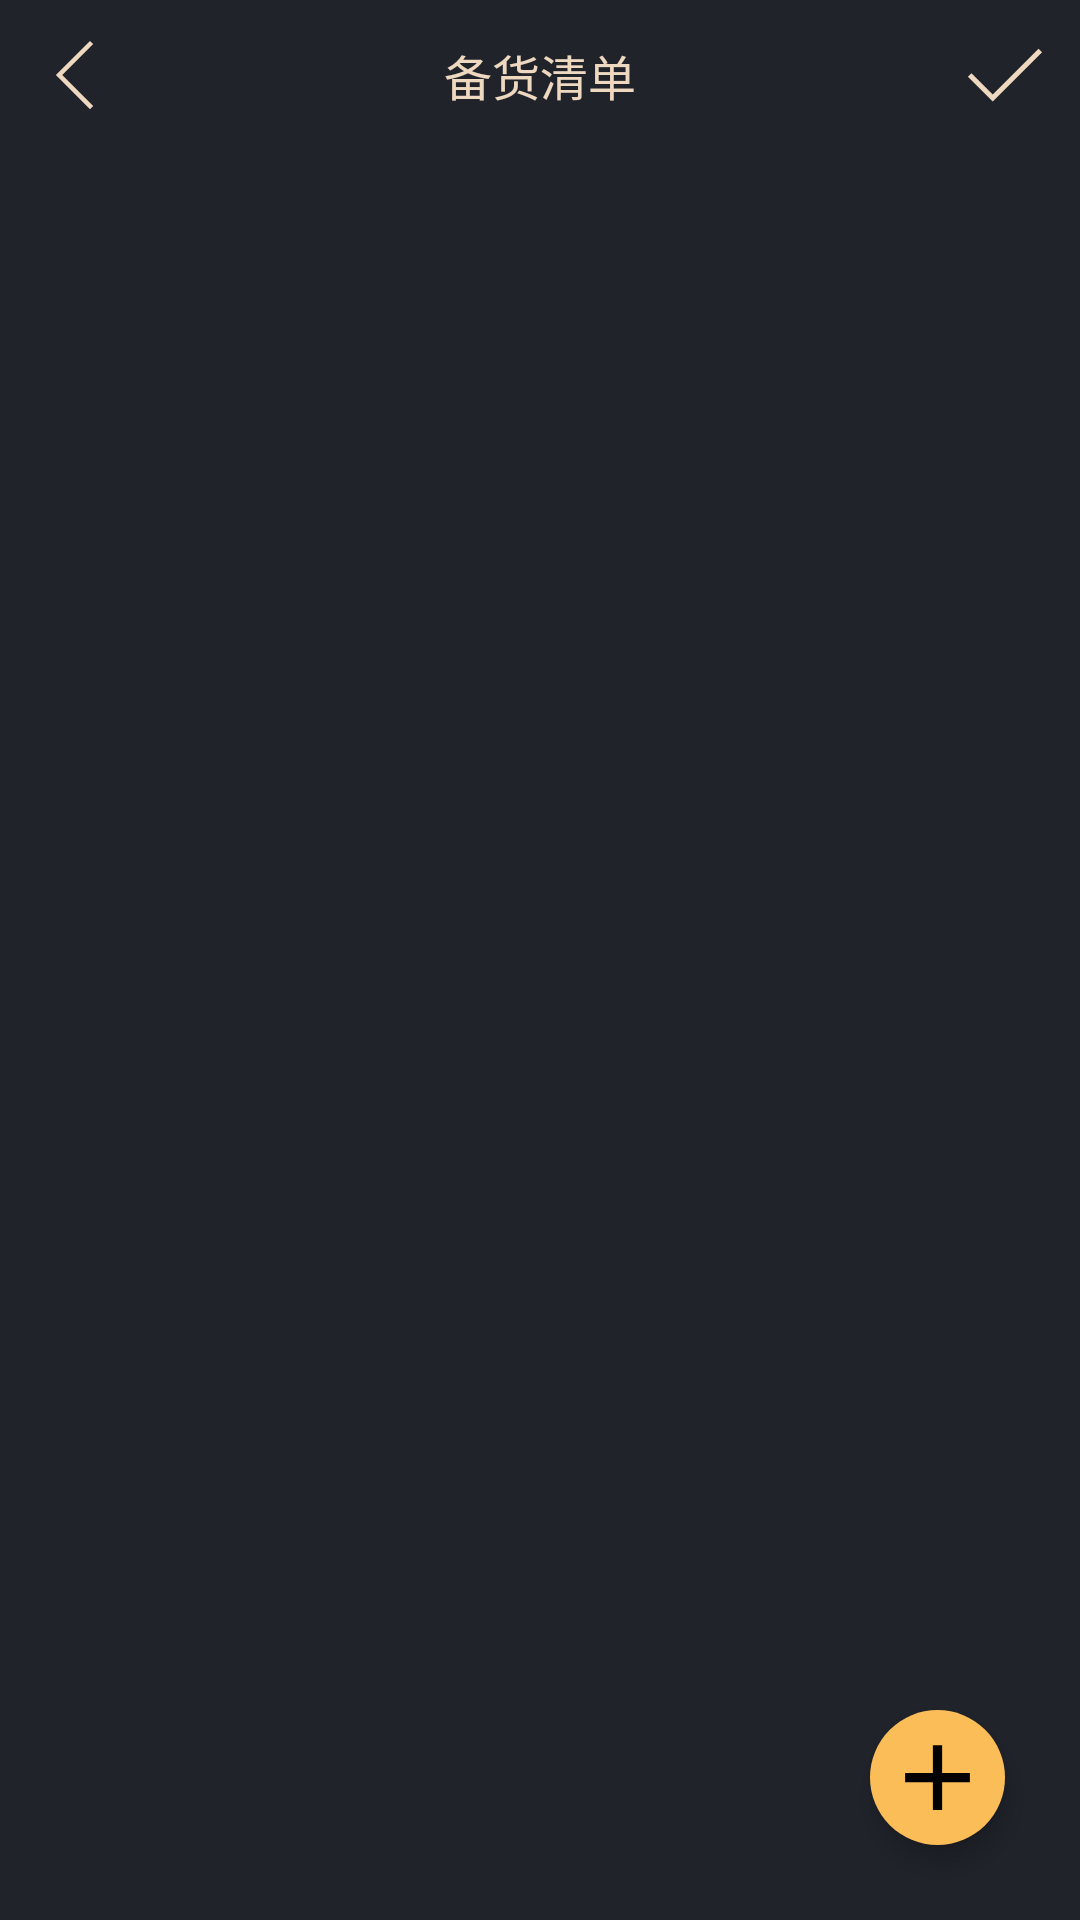

Icons on this 1080 x 1920 Android screen, each with its box as Rect(x1, y1, x2, y2):
add: Rect(870, 1710, 1005, 1845)
arrow back eed: Rect(56, 41, 93, 109)
done eed: Rect(968, 49, 1042, 102)
